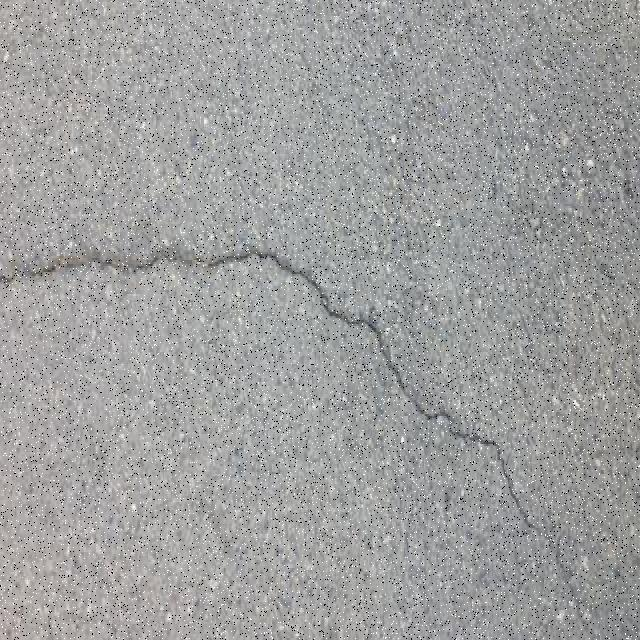moderate crack: (365, 176, 639, 345), (255, 253, 437, 396), (24, 394, 142, 476), (18, 243, 267, 278)
severe crack: (392, 369, 550, 533), (521, 477, 603, 602), (418, 402, 466, 430), (328, 305, 377, 332)
